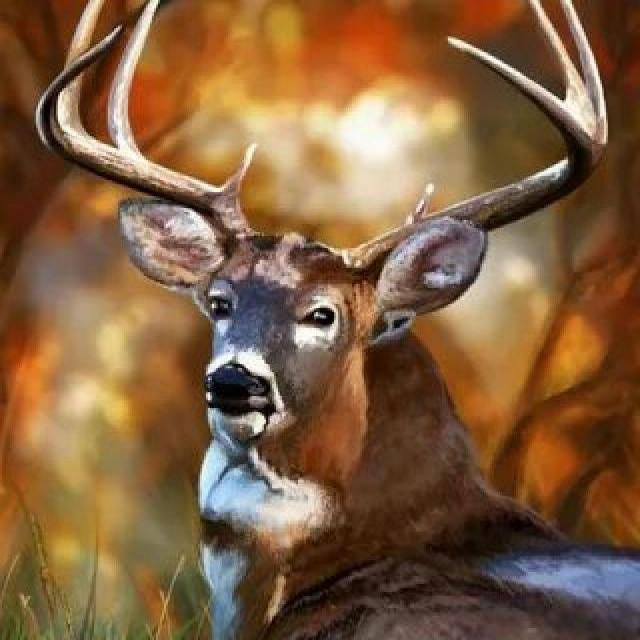deer: (49, 81, 530, 640)
